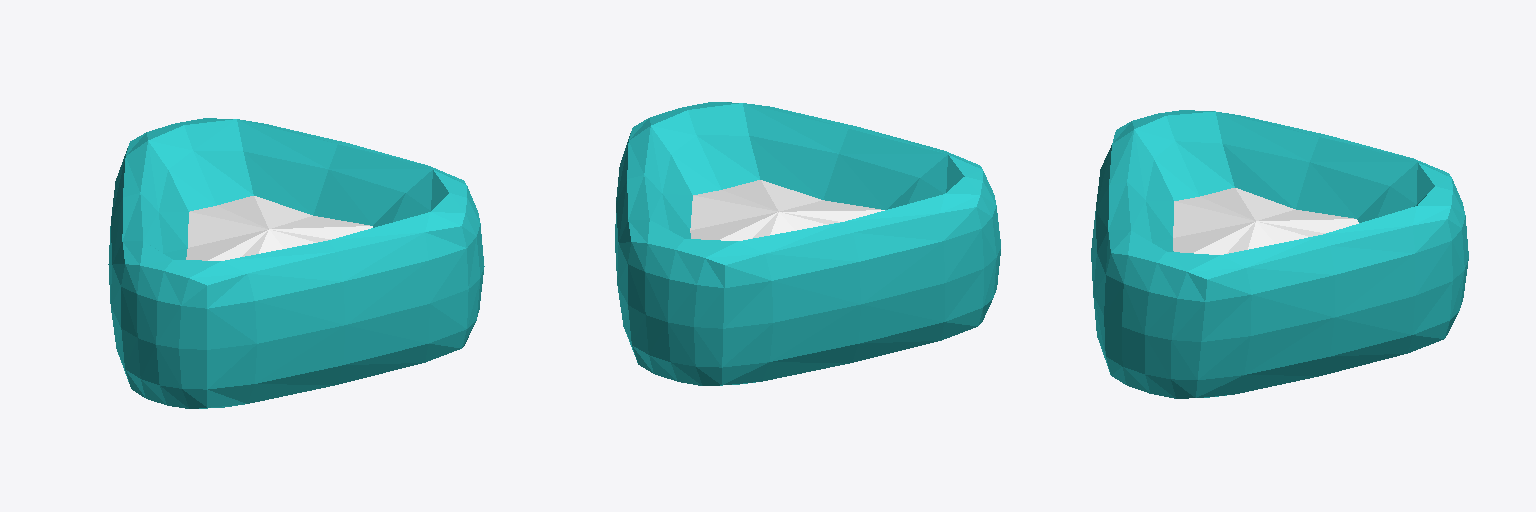
File: jarhead.obj
3 renders of one model, left to right at view 1: azimuth 30°, elevation 25°; view 2: azimuth 150°, elevation 25°; view 3: azimuth 270°, elevation 25°, orthographic.
Parts seen in each view (by area): view 1: cylinder1; view 2: cylinder1; view 3: cylinder1.
Boxes of the visible parts, <box> form: cylinder1: <box>108,118,484,408</box>; cylinder1: <box>615,102,1000,385</box>; cylinder1: <box>1091,110,1468,398</box>.
Bounding box in the file's own units: 0.4855 × 0.1972 × 0.4529.